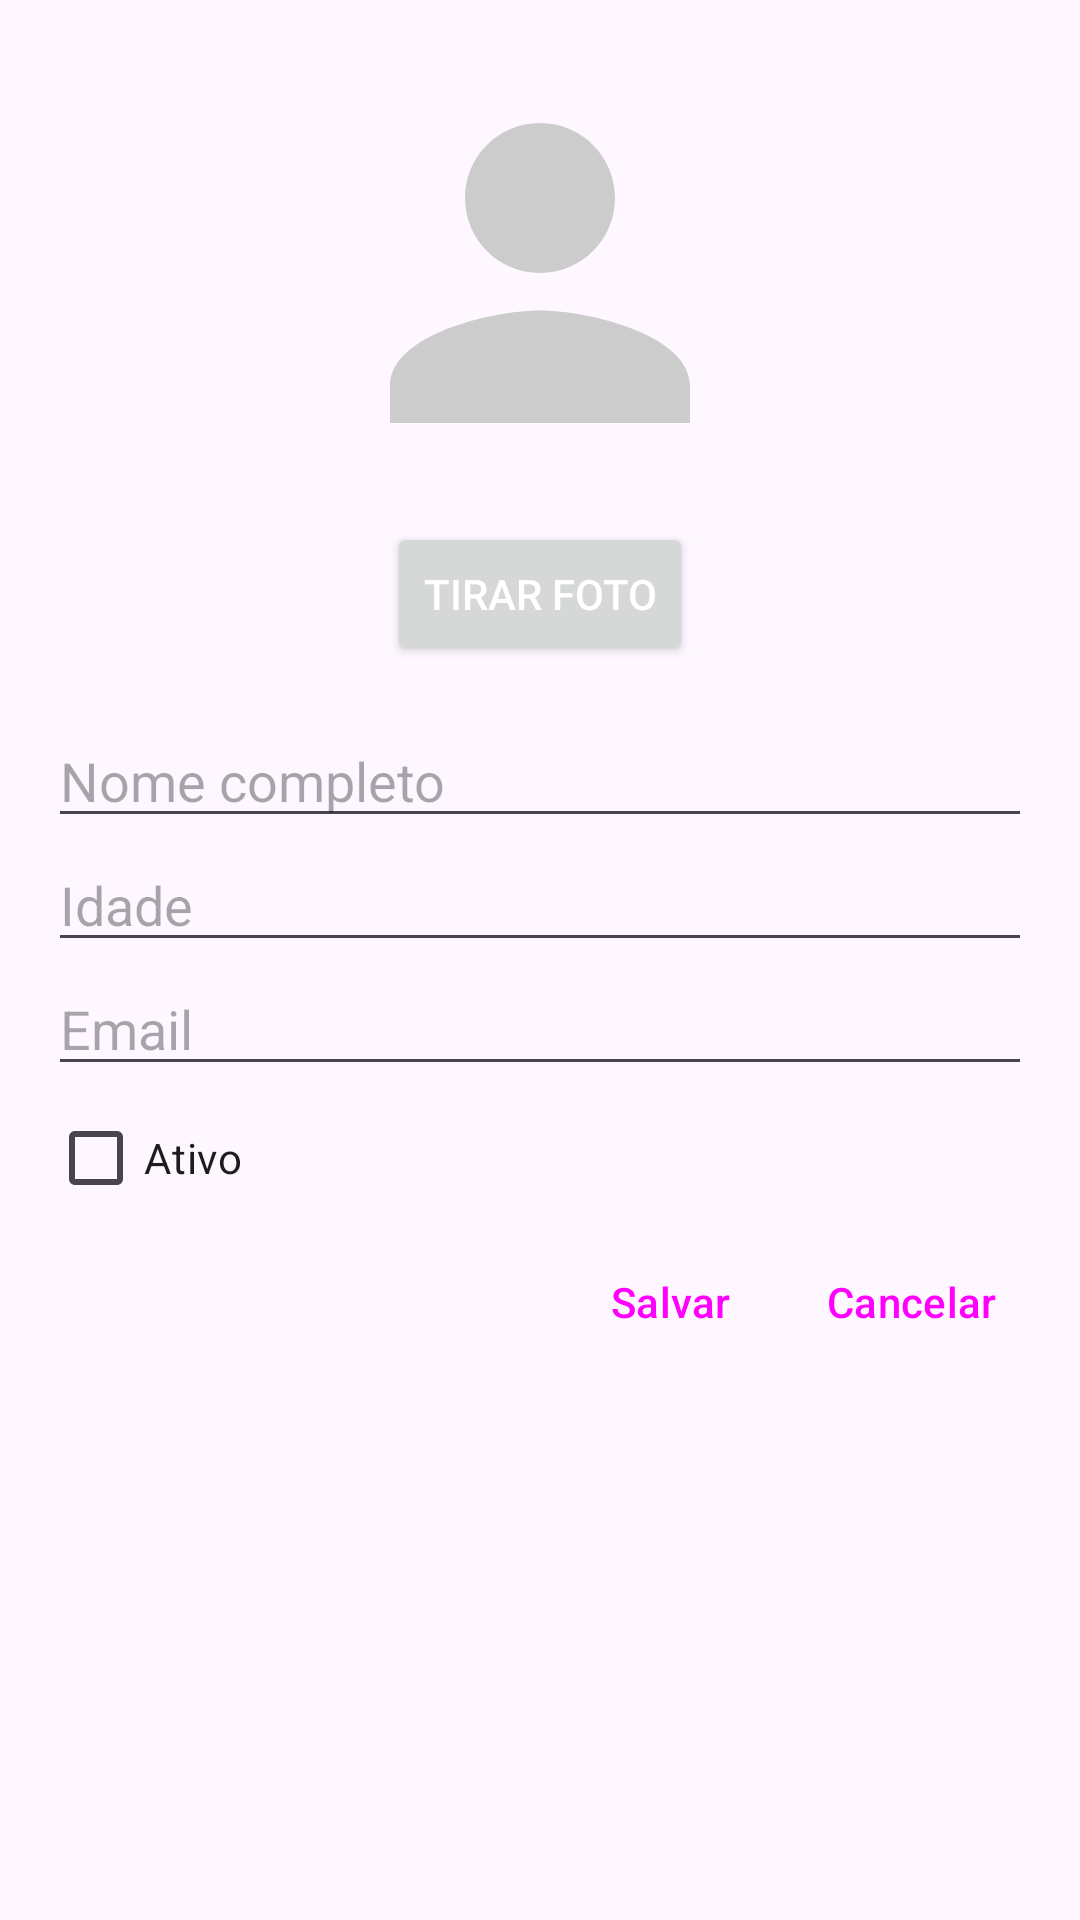

Named icons in this screenshot (1080×1920) and their centers, [x,y]:
Foto do usuário: [540,273]
